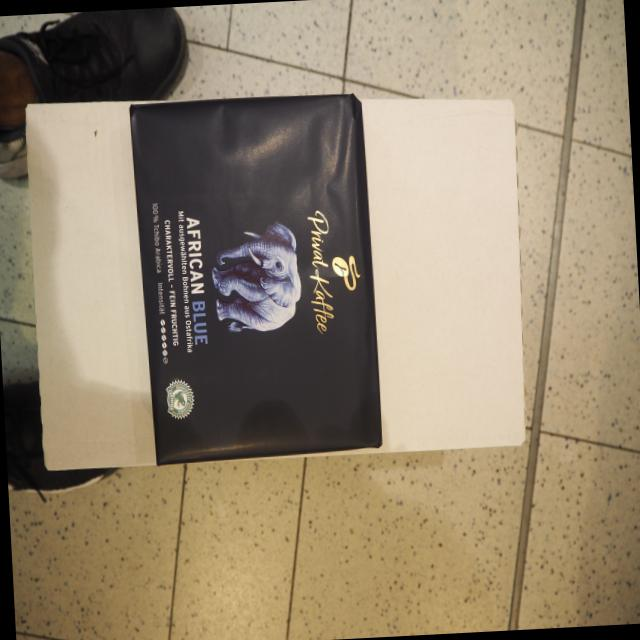AB Gemahlen: (128, 91, 386, 470)
